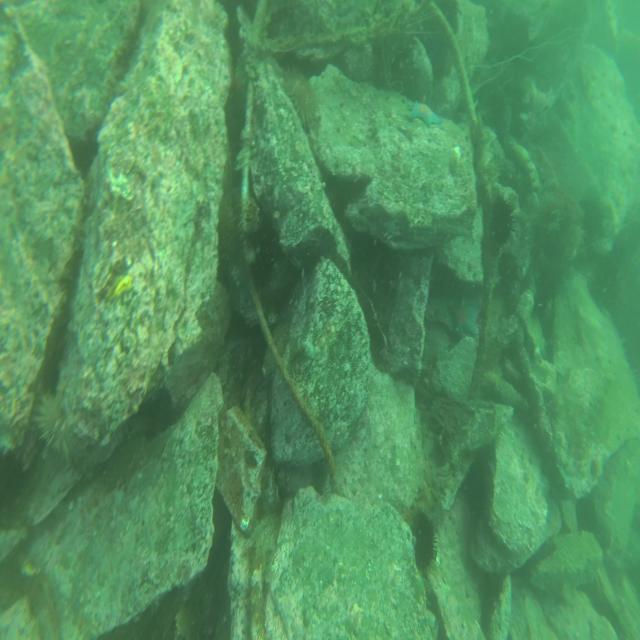echinus: (33, 389, 84, 469), (280, 61, 318, 133), (407, 509, 437, 574), (213, 190, 242, 256), (248, 233, 276, 290), (490, 187, 517, 245)
starfish: (448, 296, 480, 344), (407, 95, 443, 130)
